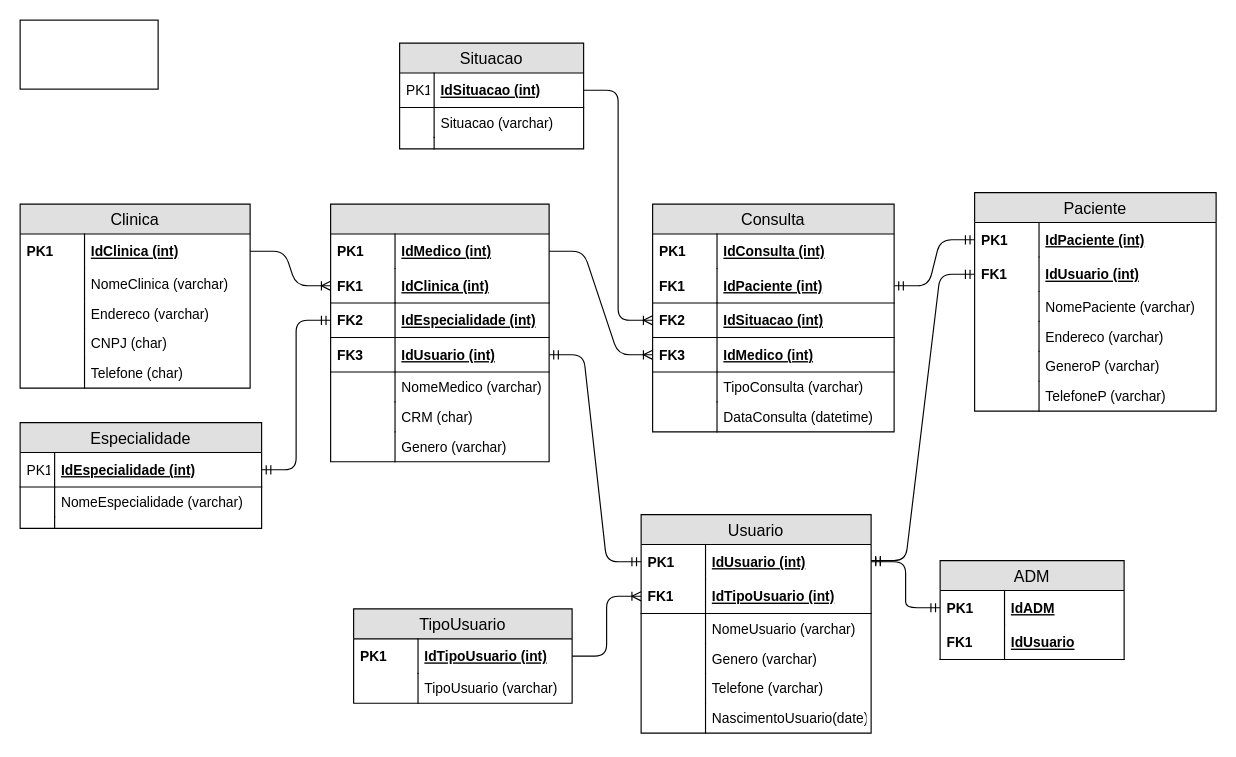
This 1236x757 diagram has some shape labels left out. The shapes that lost their labels are listed below. From the top down, each one's box as (x1, y1, x2, y2) in pixels, then its label:
(19, 19, 158, 89): MODELO LOGICO
(329, 203, 549, 462): Medicos
